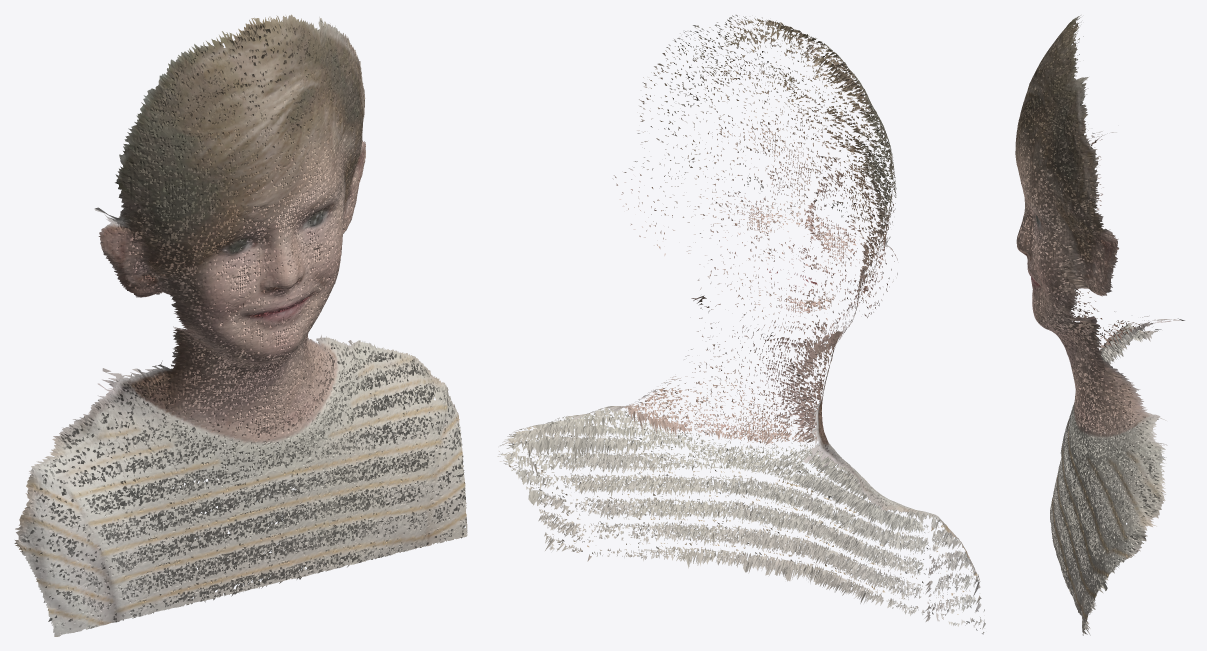
Rendered from ozzy_mesh_quest.glb.
3 views of the same model, side by side, from view 1: azimuth 30°, elevation 25°; view 2: azimuth 150°, elevation 25°; view 3: azimuth 270°, elevation 25° (orthographic). The views are drawn at different scales.
Size of the model in its own units: 0.4282 by 0.5151 by 0.1602.
